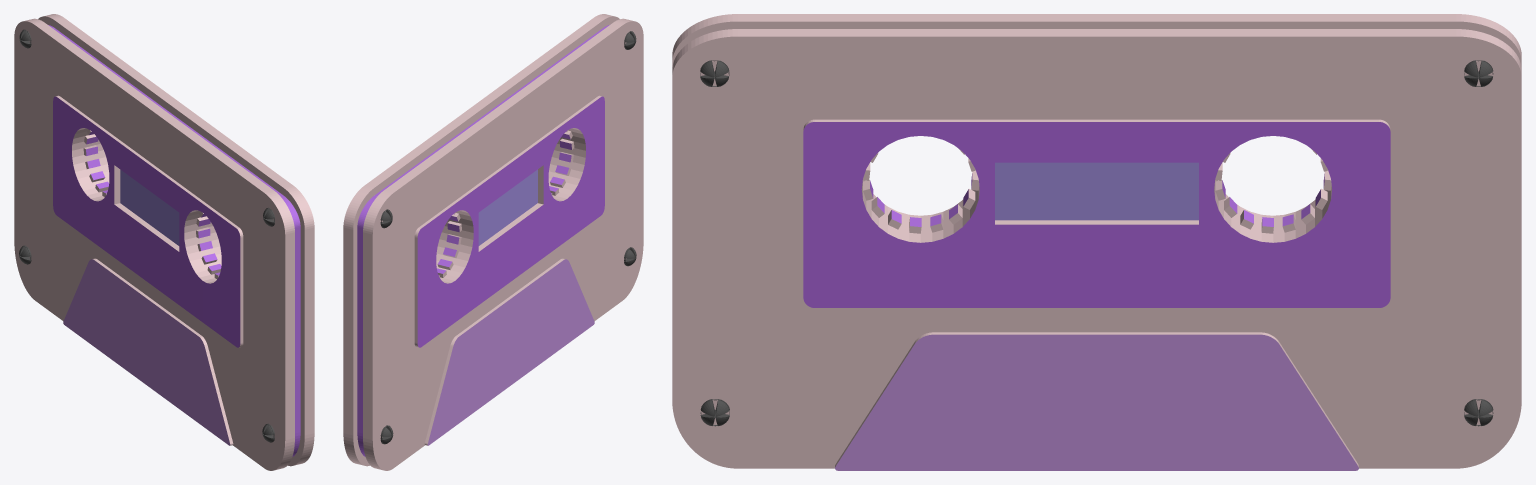
File: Casette.glb
The picture shows the model from 3 angles, left to right: view 1: azimuth 30°, elevation 25°; view 2: azimuth 150°, elevation 25°; view 3: azimuth 270°, elevation 25°; orthographic projection. The views are drawn at different scales.
Parts seen in each view (by area): view 1: Cube; view 2: Cube; view 3: Cube.
Boxes of the visible parts, left/top/right/bottom form: Cube: left=14, top=14, right=314, bottom=470; Cube: left=343, top=14, right=643, bottom=470; Cube: left=672, top=14, right=1521, bottom=470.
Bounding box in the file's own units: 0.13 × 0.812 × 1.45.
